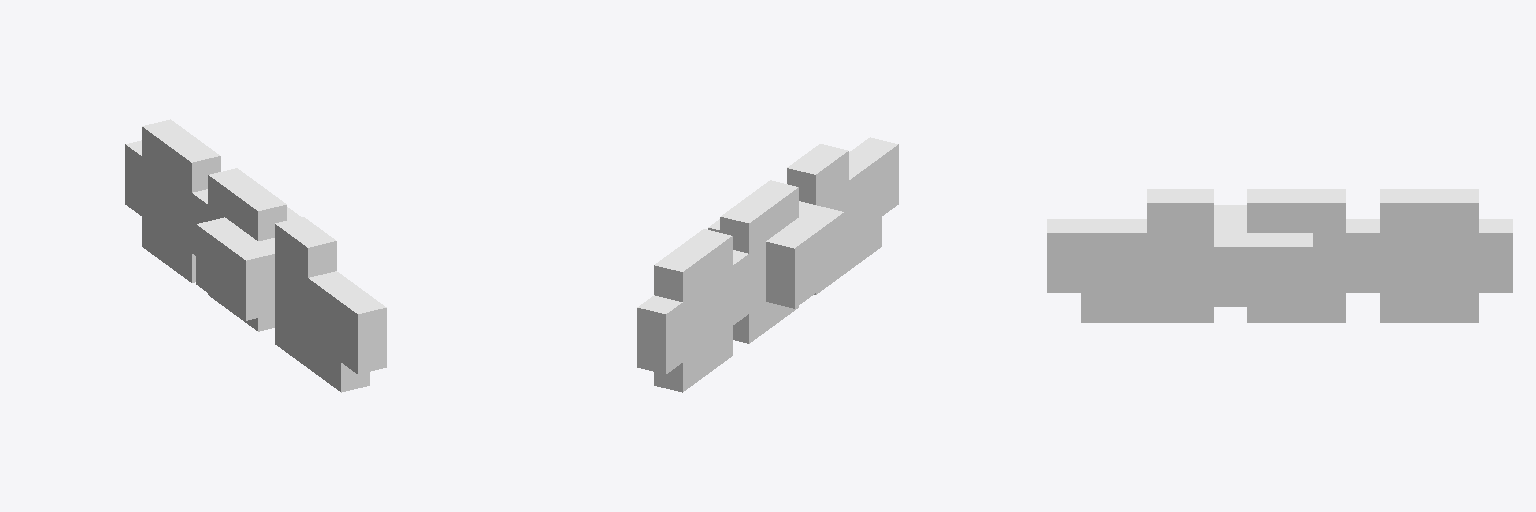
Rendered from soldiergun.obj.
The picture shows the model from 3 angles: view 1: azimuth 30°, elevation 25°; view 2: azimuth 150°, elevation 25°; view 3: azimuth 270°, elevation 25°; orthographic projection.
Size of the model in its own units: 3 by 4 by 14.